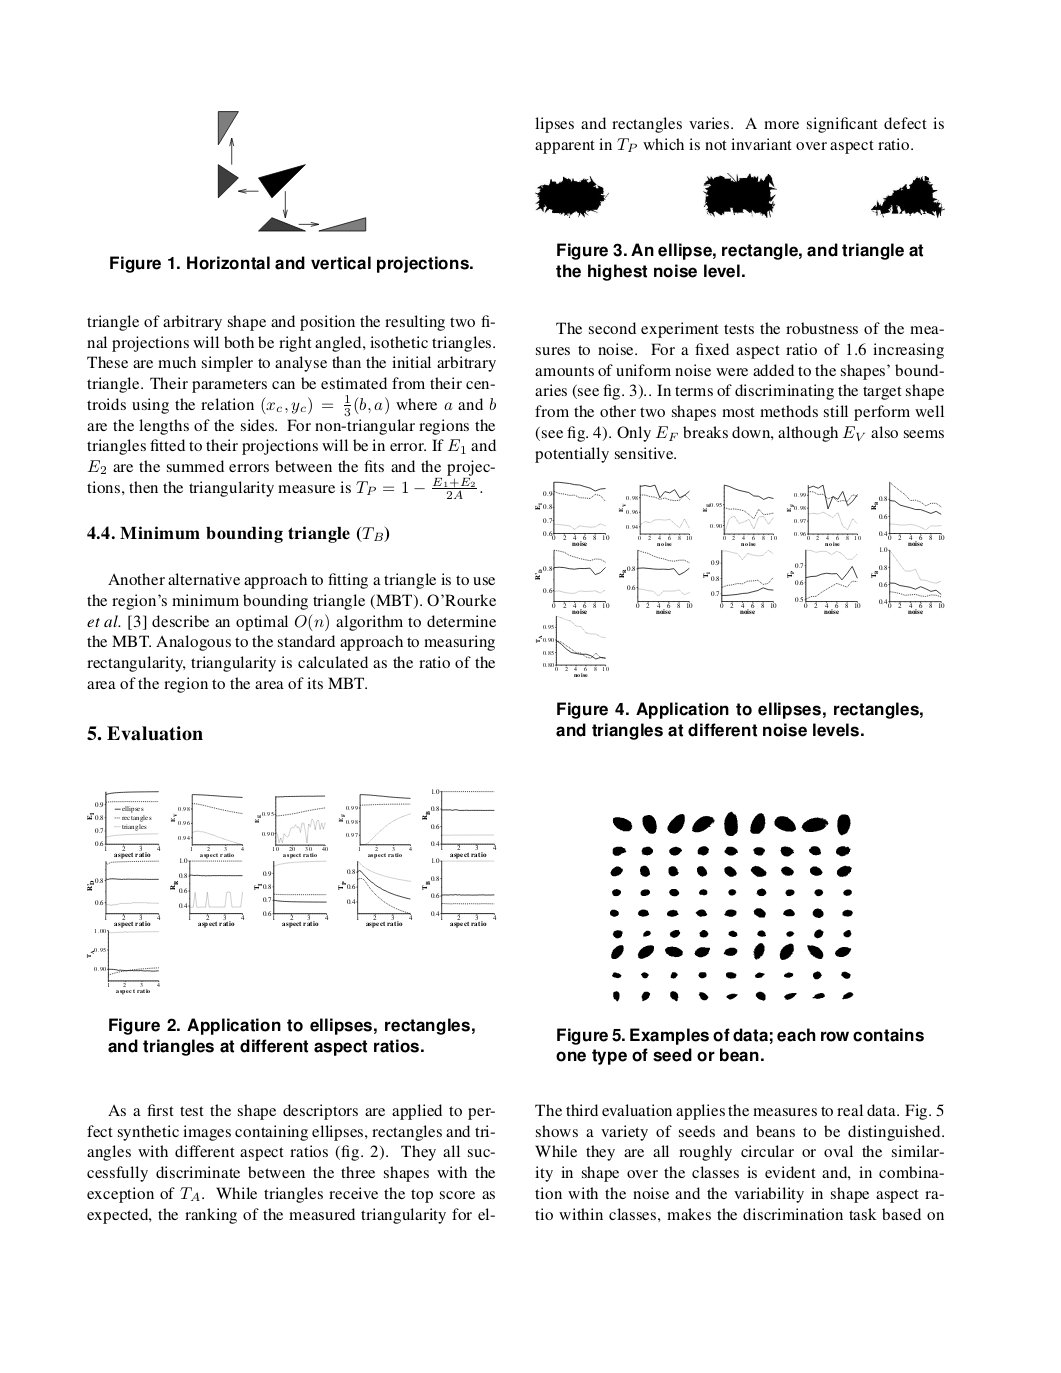figure: (610, 811, 853, 1001), (217, 110, 366, 232), (422, 789, 496, 858), (87, 791, 160, 858), (87, 860, 160, 927), (171, 860, 244, 927), (254, 860, 328, 927), (422, 860, 496, 927), (338, 861, 412, 927), (872, 547, 944, 613), (86, 929, 159, 994), (338, 793, 411, 858), (171, 793, 243, 858), (535, 481, 609, 545), (535, 549, 609, 613), (787, 549, 860, 613), (254, 795, 327, 858), (872, 481, 944, 545), (619, 551, 692, 613), (703, 551, 776, 613), (702, 484, 776, 545), (786, 485, 860, 545), (619, 484, 691, 545), (535, 616, 609, 676), (703, 173, 776, 217), (535, 176, 609, 217), (872, 176, 944, 217)
